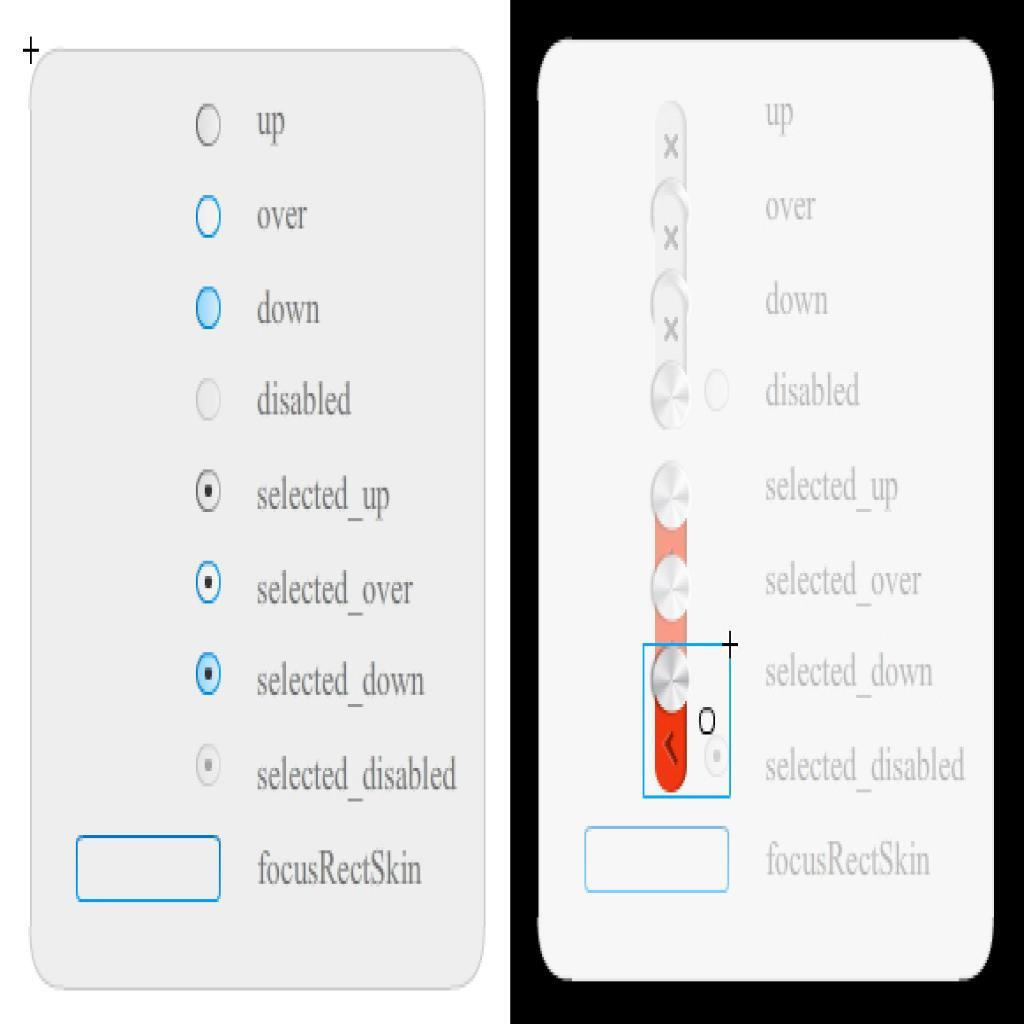input: (77, 835, 223, 904), (584, 827, 732, 894)
radio: (193, 283, 227, 333), (194, 650, 225, 700), (195, 102, 226, 149), (194, 559, 225, 606), (704, 371, 735, 418), (196, 745, 226, 793), (195, 376, 225, 423), (197, 191, 224, 241), (197, 467, 225, 515)
